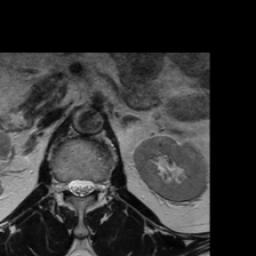CCS_normal: (77, 171, 85, 204)
LFS_normal: (94, 171, 102, 198)
LLS_normal: (85, 171, 94, 200)
RFS_normal: (60, 172, 68, 200)
RLS_normal: (68, 172, 77, 202)
